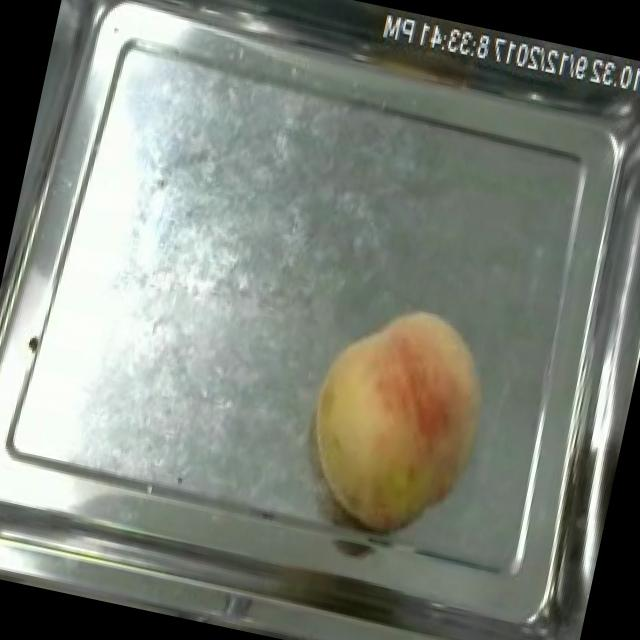Fruit: (282, 284, 508, 552)
